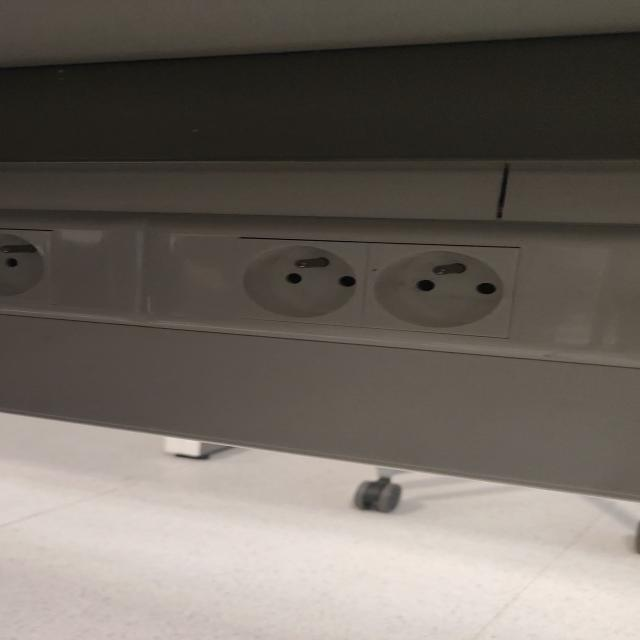house plug: (364, 241, 530, 339), (230, 238, 372, 328)
